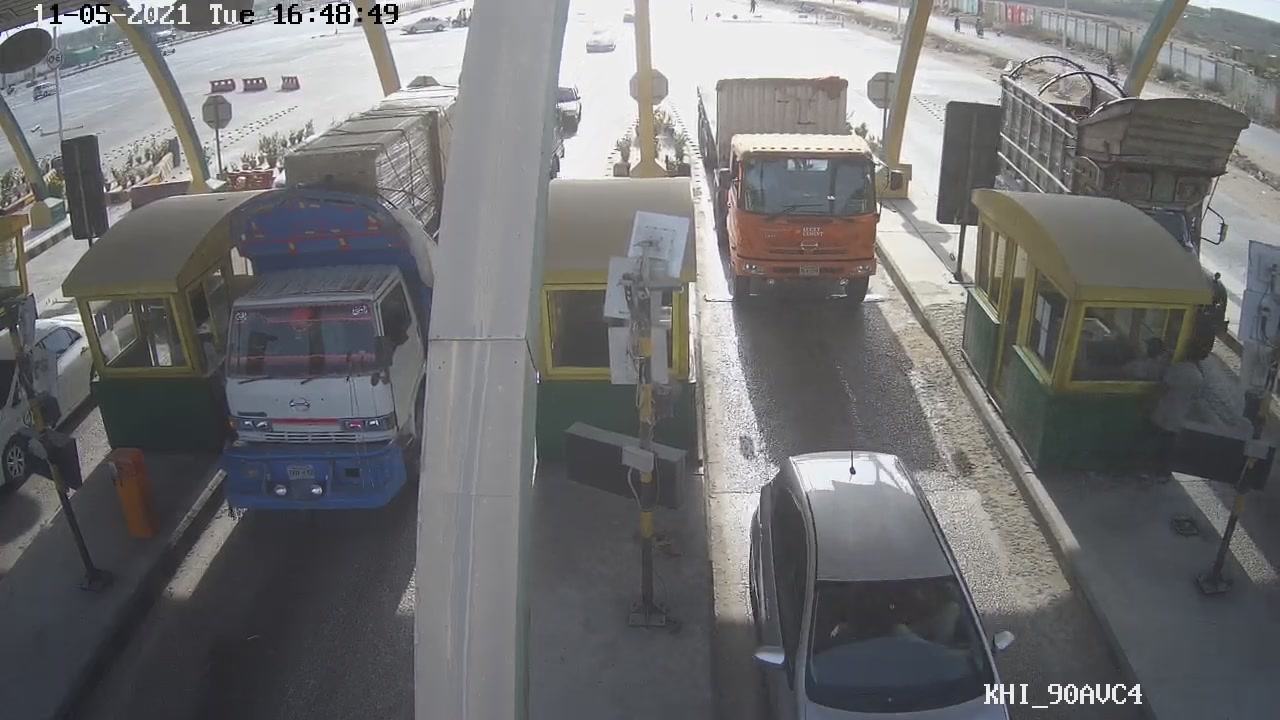F6: (697, 32, 896, 318)
